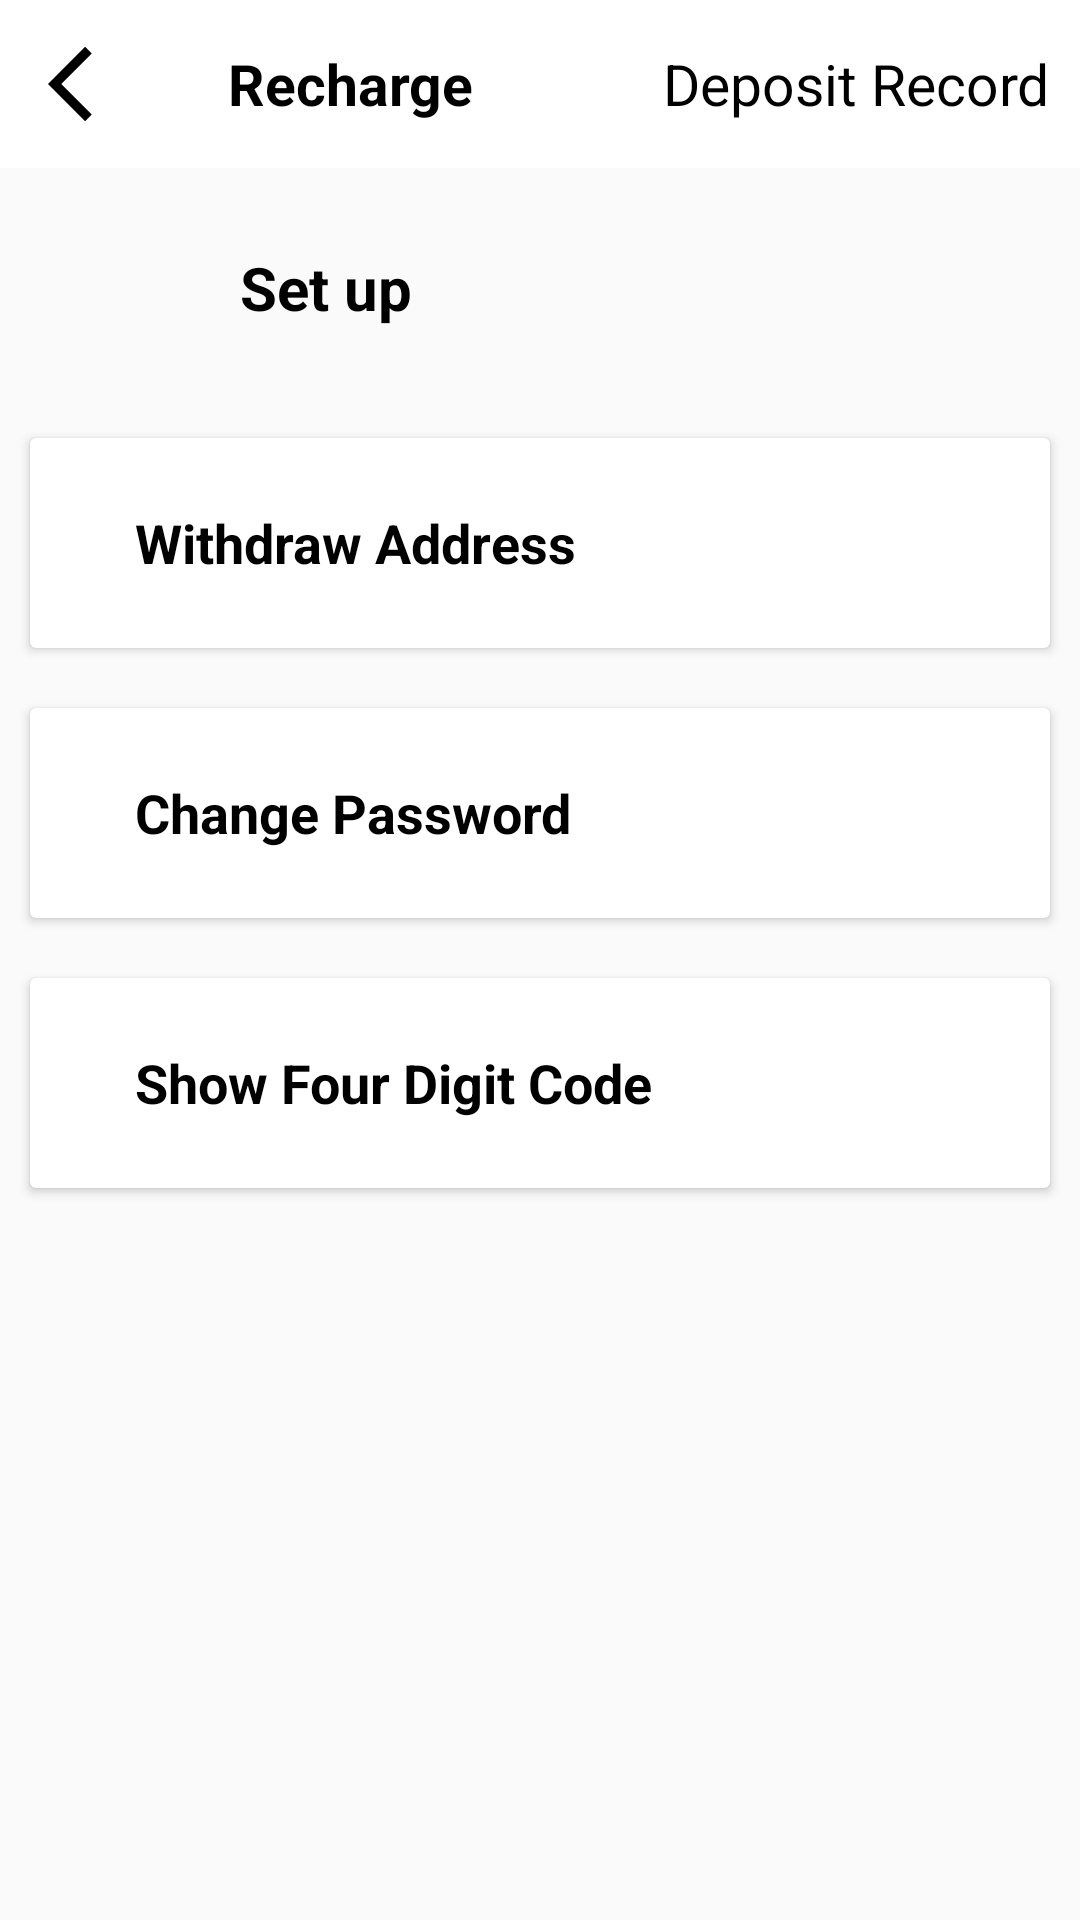

Where icons sit on this 1080w x 1920h app screen, as (x1, y1, x2, y2):
back: (48, 47, 92, 121)
